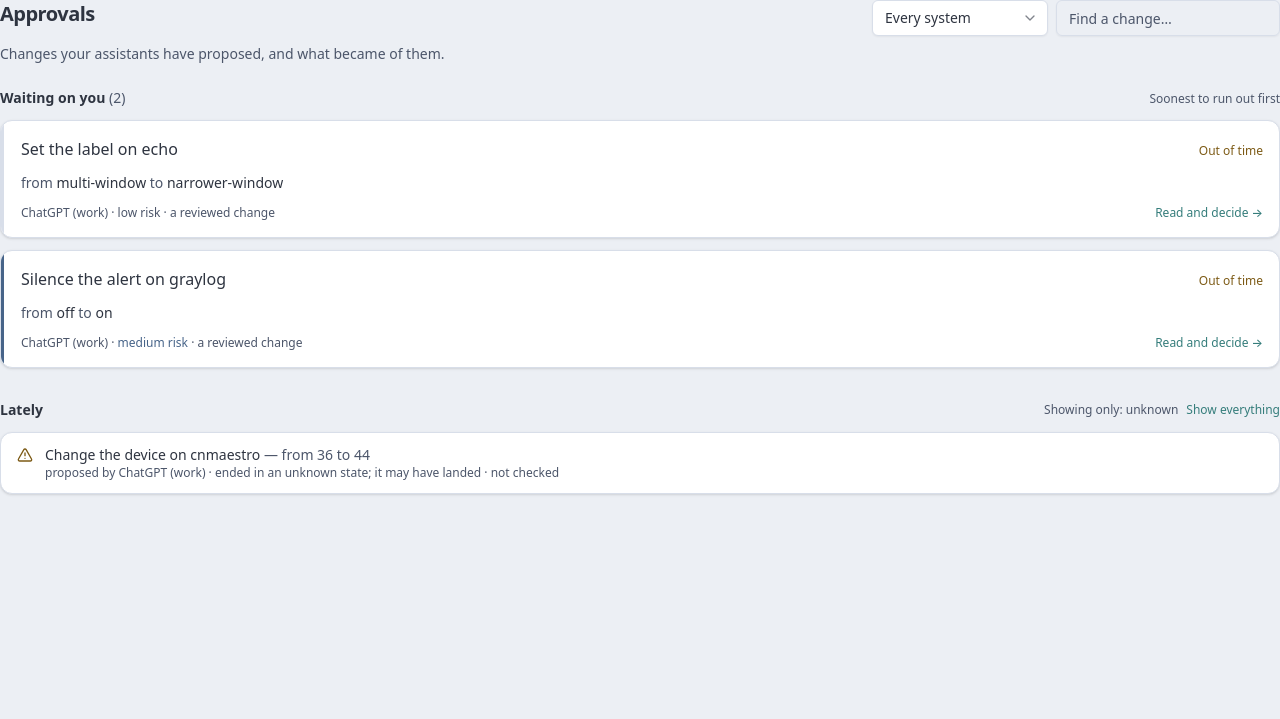
cutting the list › clears the legacy filter and gives the chips back
This screenshot has width=1280, height=719.
expect the number of list items is 1: met, box [17,445,559,481]
Click the button "Show everything".
click(1233, 410)  # box [1186,402,1279,418]
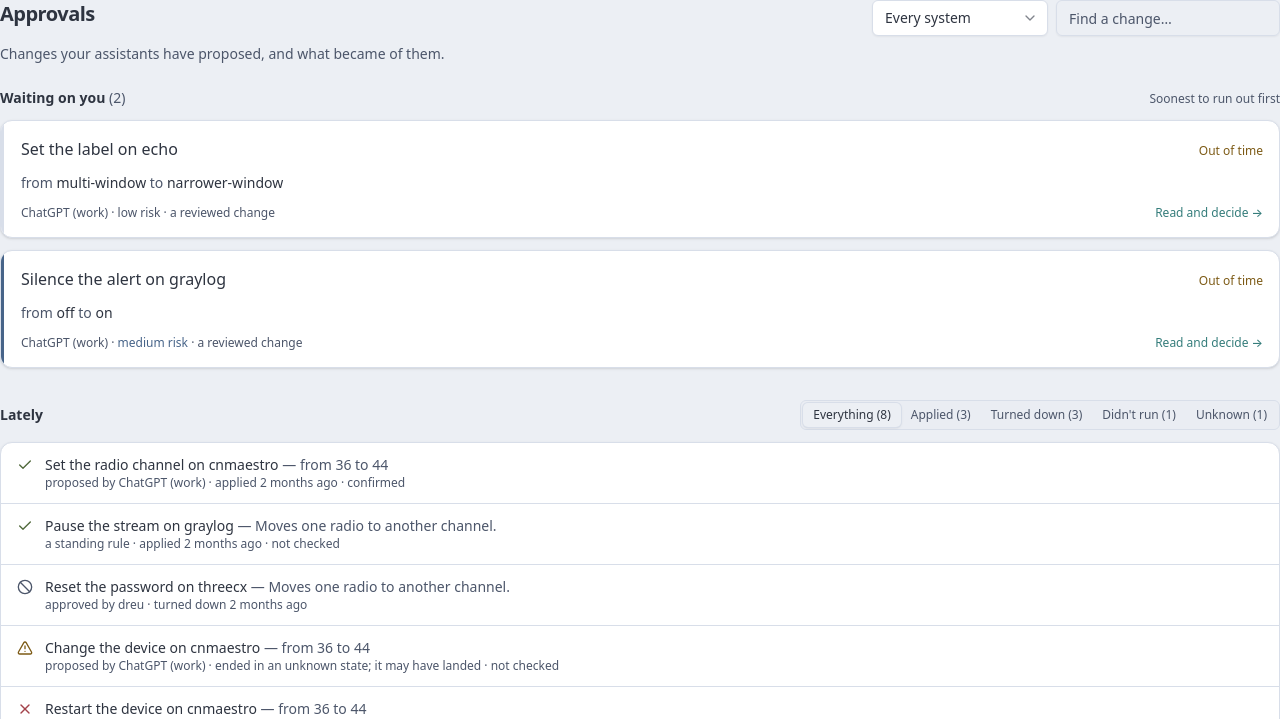
expect the number of list items is 8: met
